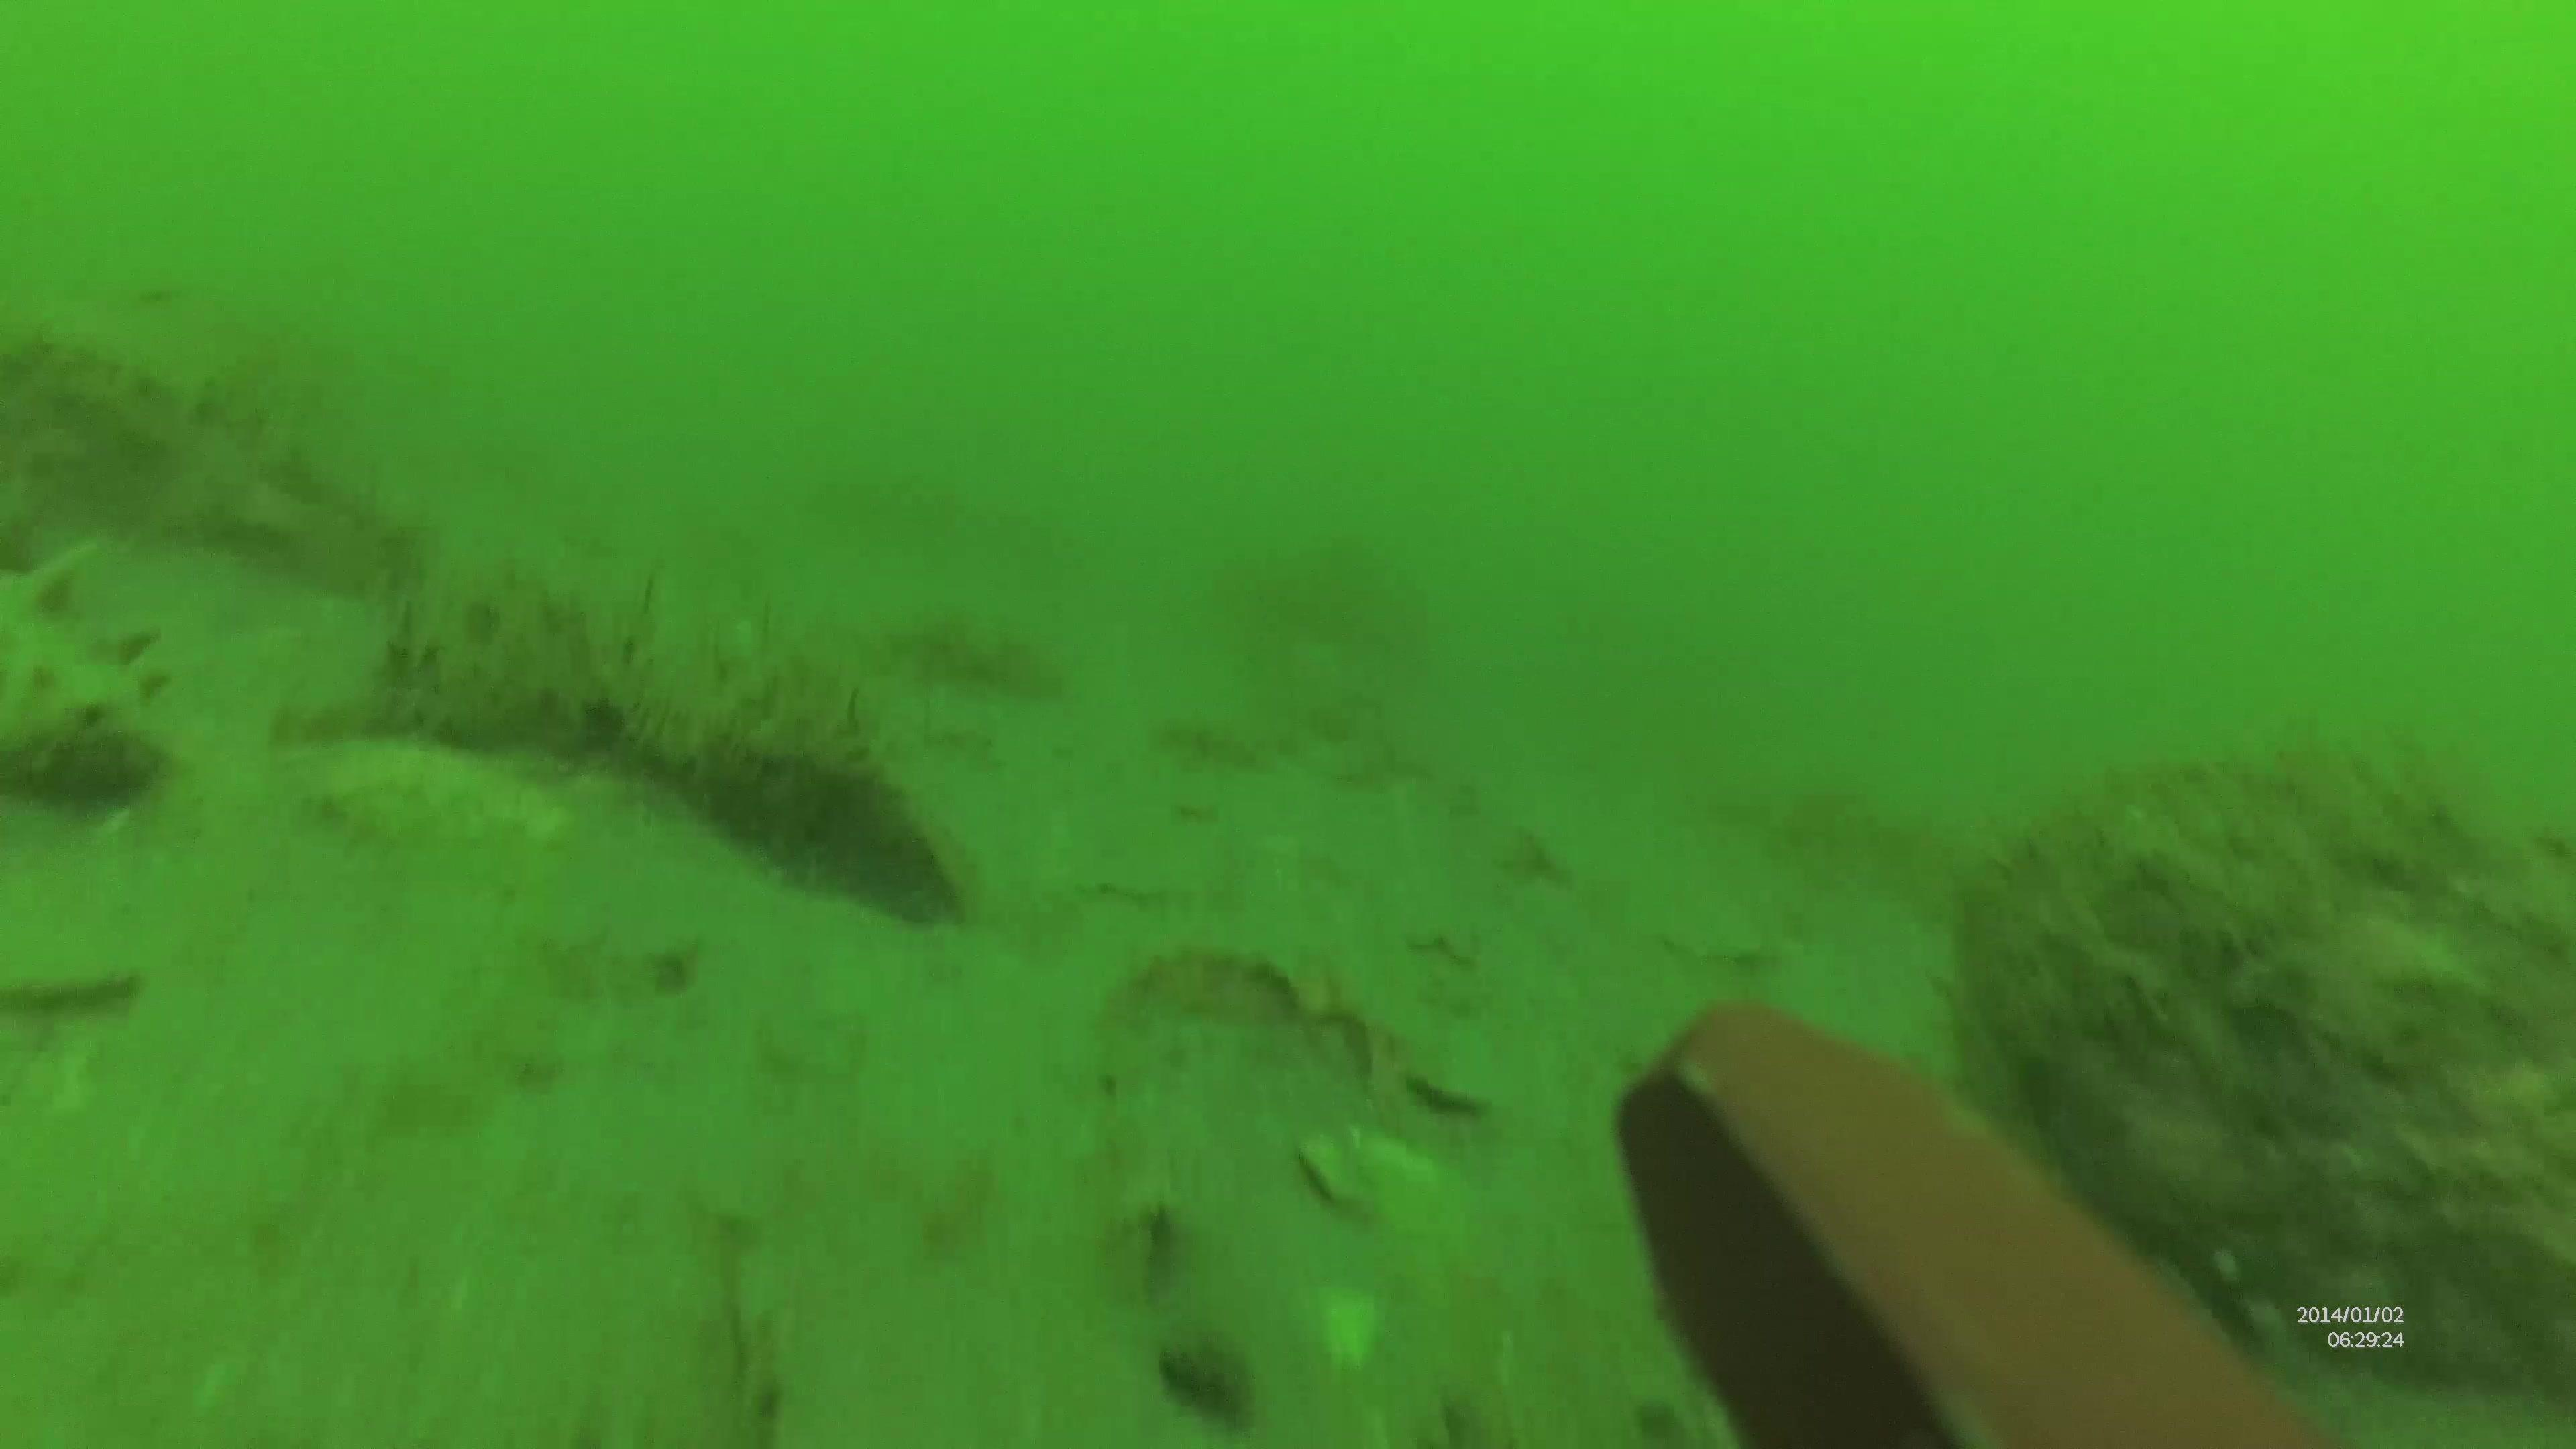holothurian: (9, 322, 428, 591), (5, 515, 186, 824)
